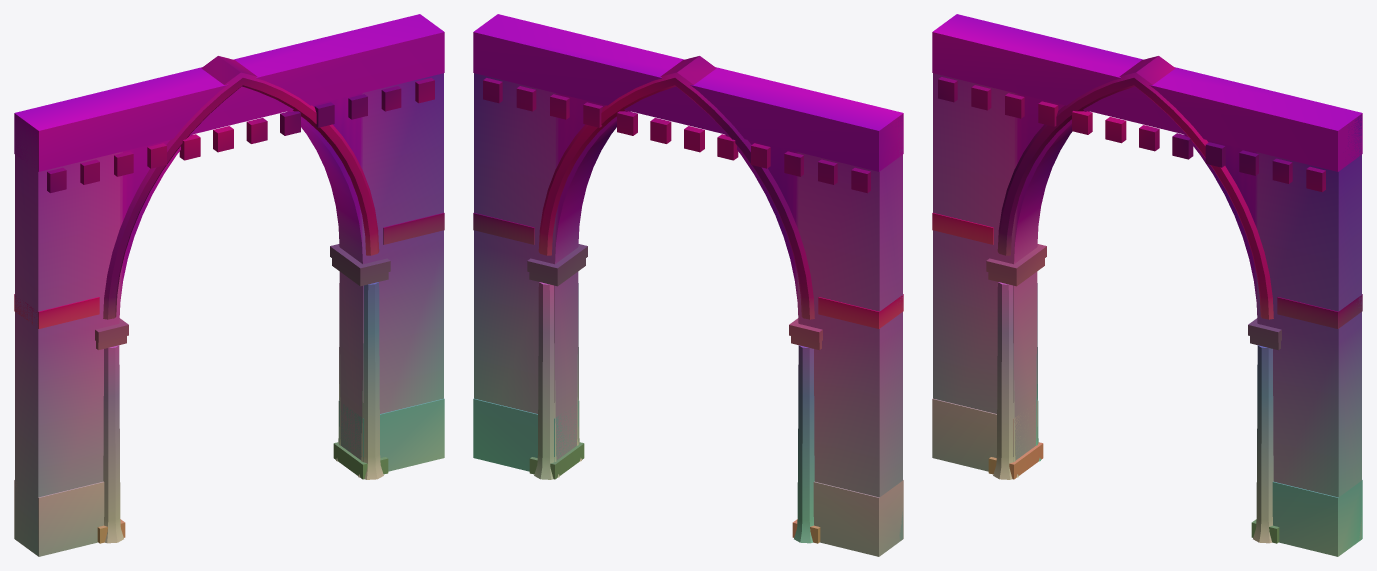
File: palace_arcade_4m.glb
3 renders of one model, left to right at view 1: azimuth 30°, elevation 25°; view 2: azimuth 150°, elevation 25°; view 3: azimuth 330°, elevation 25°, orthographic.
Visible parts, largest first — view 1: palace_arcade_panel, palace_arcade_mould, palace_arcade_frieze, palace_arcade_gild, palace_colonnette.002, palace_colonnette, palace_arcade_imposts; view 2: palace_arcade_panel, palace_arcade_mould, palace_arcade_frieze, palace_arcade_gild, palace_colonnette.003, palace_colonnette.001, palace_arcade_imposts; view 3: palace_arcade_panel, palace_arcade_mould, palace_arcade_frieze, palace_arcade_gild, palace_colonnette, palace_colonnette.002, palace_arcade_imposts.
Boxes of the visible parts, left/top/right/bottom form: palace_arcade_panel: left=15, top=73, right=443, bottom=555; palace_arcade_mould: left=14, top=14, right=444, bottom=556; palace_arcade_frieze: left=14, top=78, right=444, bottom=328; palace_arcade_gild: left=103, top=56, right=379, bottom=319; palace_colonnette.002: left=358, top=282, right=383, bottom=479; palace_colonnette: left=103, top=345, right=123, bottom=543; palace_arcade_imposts: left=95, top=244, right=390, bottom=543; palace_arcade_panel: left=474, top=73, right=902, bottom=540; palace_arcade_mould: left=473, top=14, right=903, bottom=556; palace_arcade_frieze: left=473, top=78, right=903, bottom=328; palace_arcade_gild: left=538, top=56, right=814, bottom=319; palace_colonnette.003: left=534, top=282, right=559, bottom=479; palace_colonnette.001: left=794, top=345, right=814, bottom=543; palace_arcade_imposts: left=527, top=244, right=822, bottom=543; palace_arcade_panel: left=933, top=73, right=1361, bottom=540; palace_arcade_mould: left=932, top=14, right=1362, bottom=556; palace_arcade_frieze: left=932, top=77, right=1362, bottom=328; palace_arcade_gild: left=997, top=56, right=1273, bottom=319; palace_colonnette: left=993, top=282, right=1018, bottom=479; palace_colonnette.002: left=1253, top=345, right=1273, bottom=543; palace_arcade_imposts: left=986, top=244, right=1281, bottom=543.
Bounding box in the file's own units: 4 × 4.09 × 0.618.
